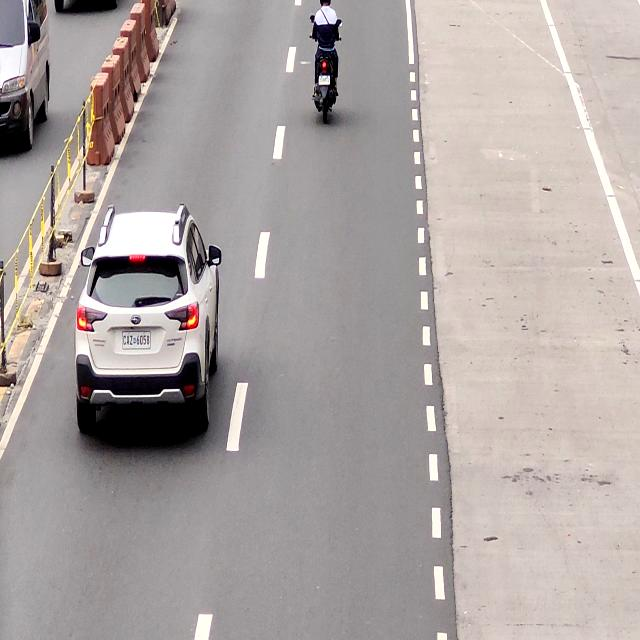Car: (73, 208, 221, 432)
License-Plate: (120, 331, 152, 353), (317, 74, 331, 85)
Motorcycle: (311, 0, 339, 121)
